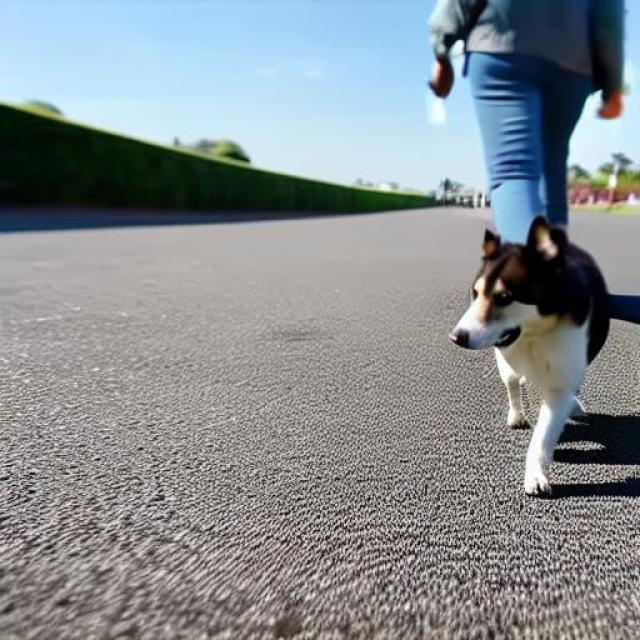Unleashed_Dog: (448, 31, 611, 498)
